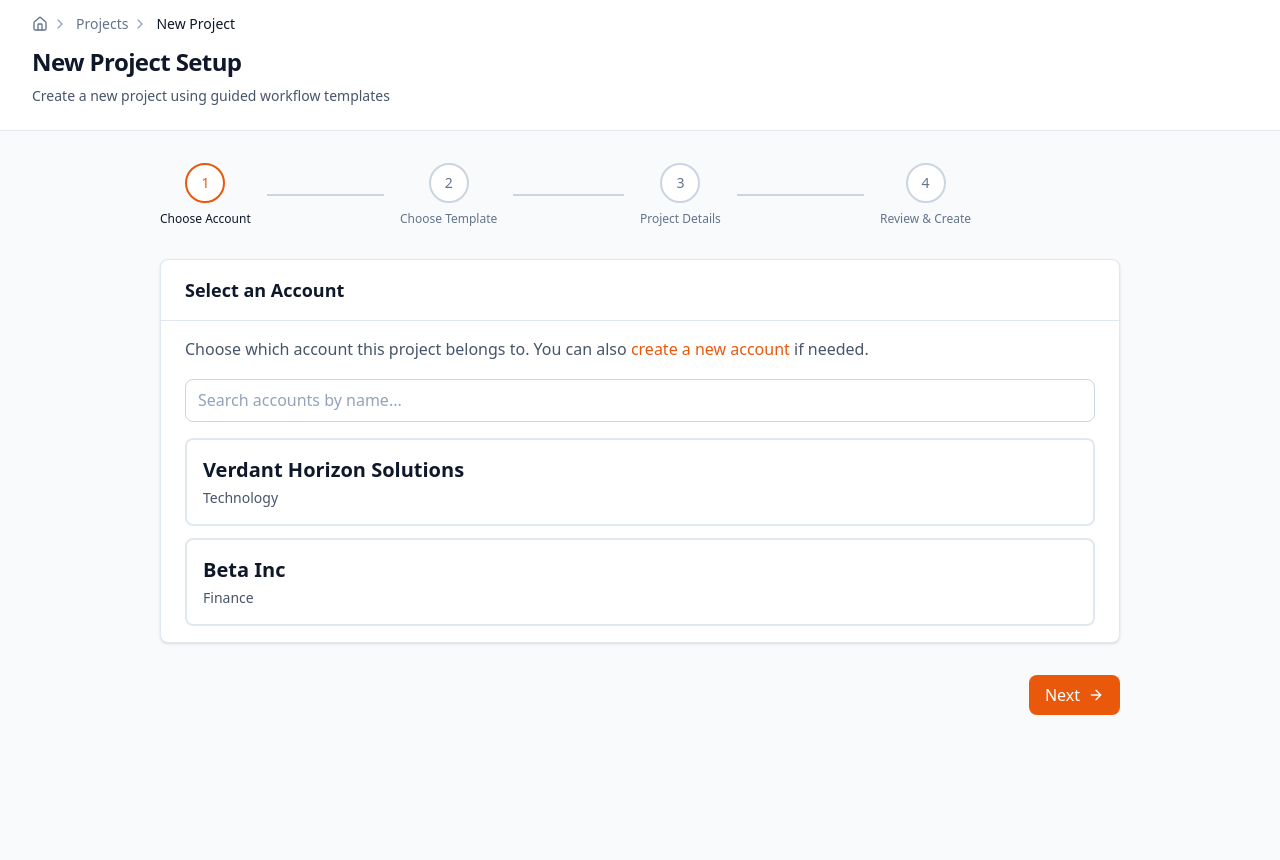
Project Setup Flow › validates project name is required
The image size is (1280, 860).
Expected: the heading "Verdant Horizon Solutions" is shown, [203,456,464,484]
Click the button "Verdant Horizon Solutions Technology": (334, 470) [185,438,1095,526]
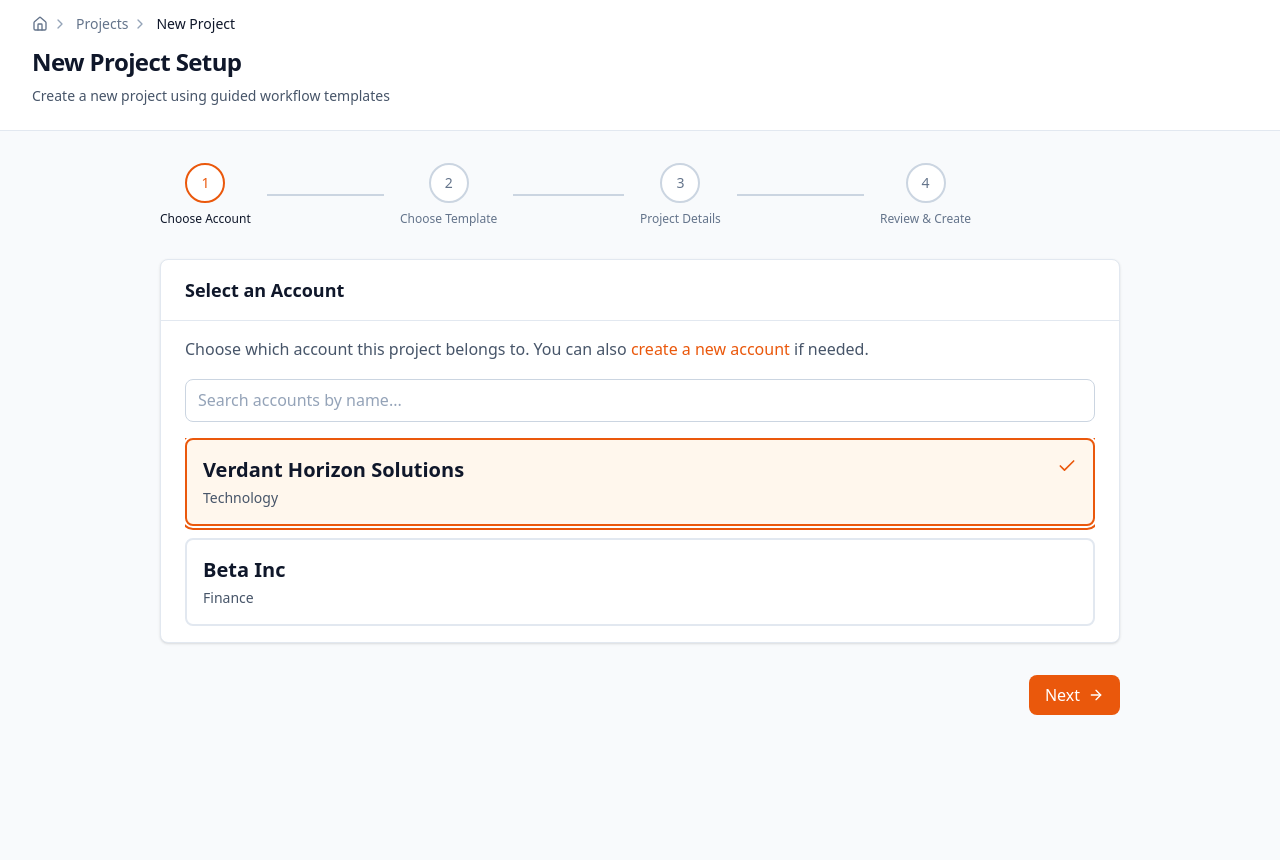
Click the button "Next": (1074, 695) [1029,675,1120,715]
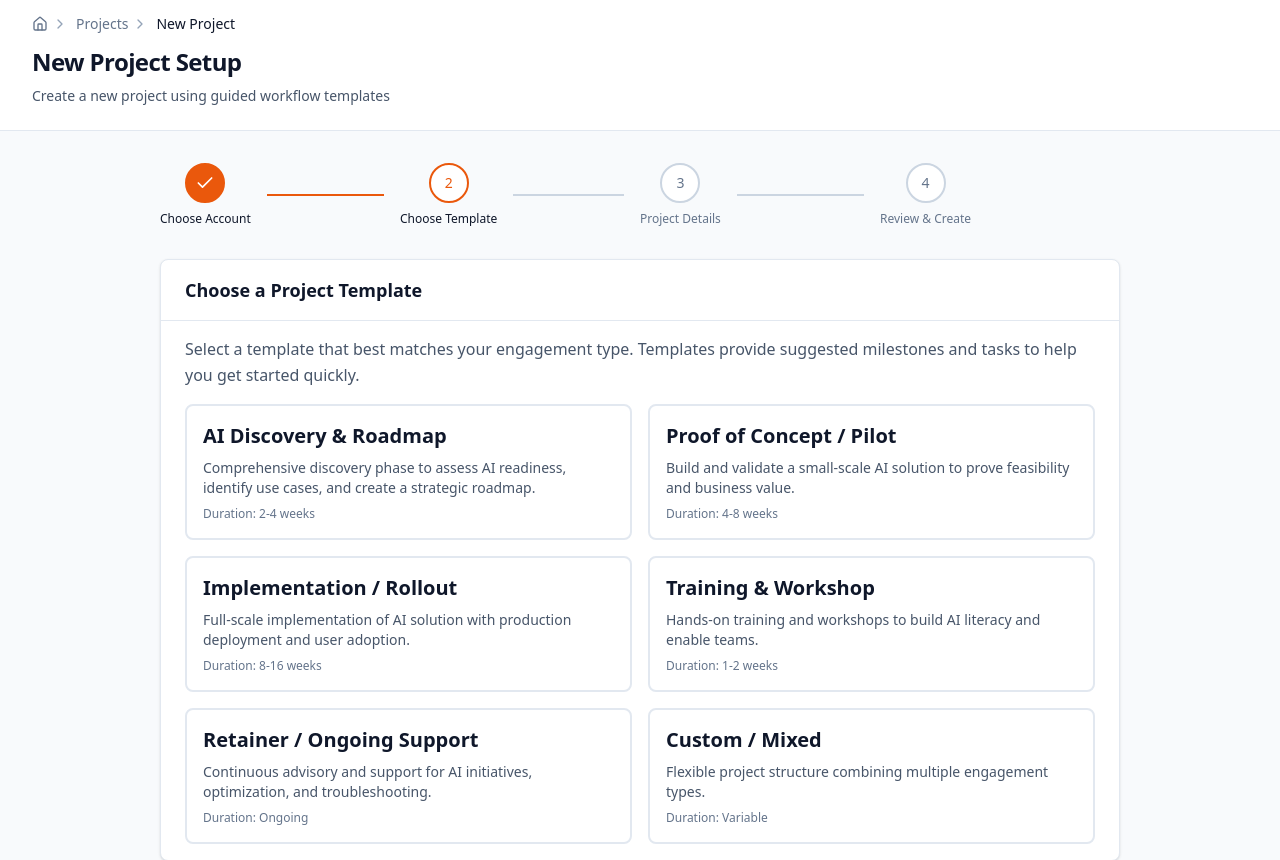
Expected: the heading "AI Discovery & Roadmap" is shown, [203,422,447,450]
Click the button "AI Discovery & Roadmap": (408, 472) [185,404,632,540]
(page scrolled)
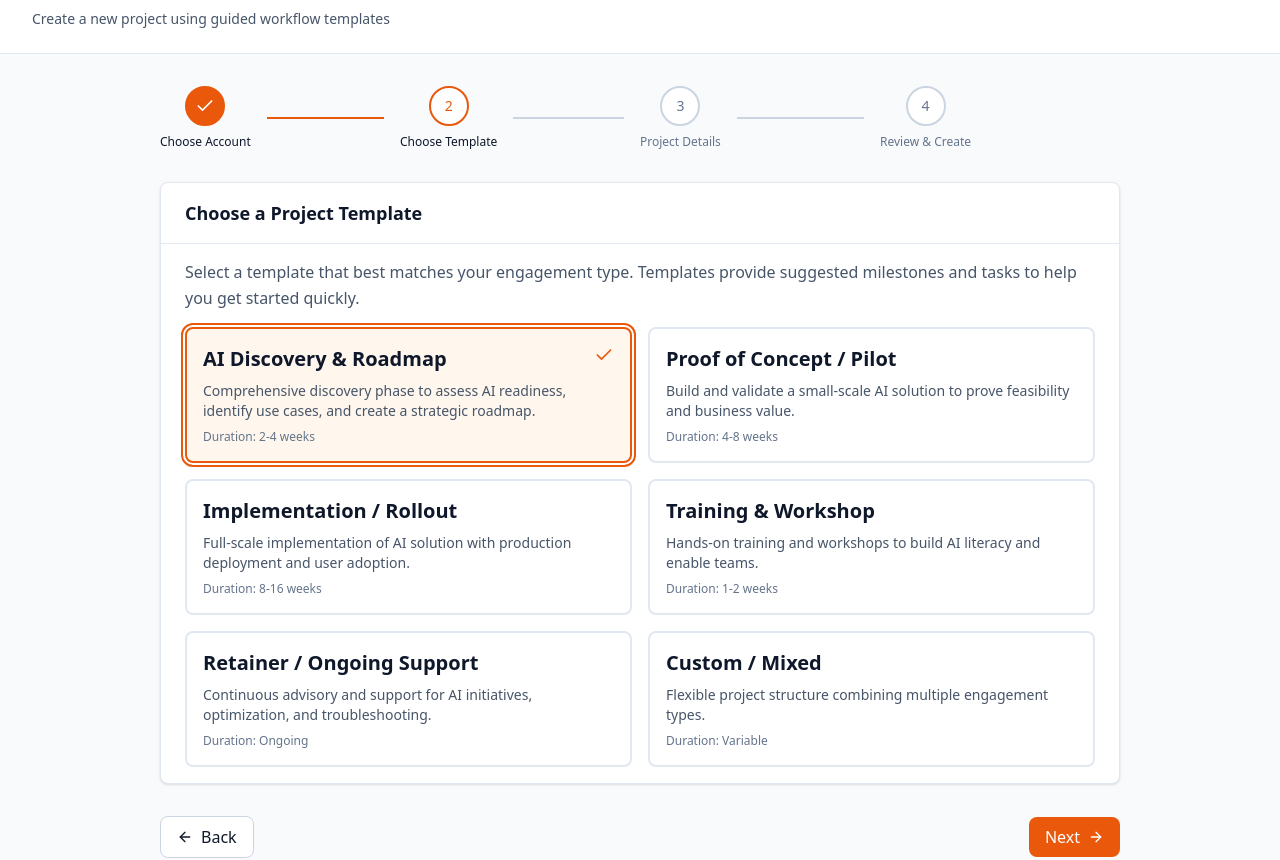
Click the button "Next": (1074, 837) [1029,817,1120,857]
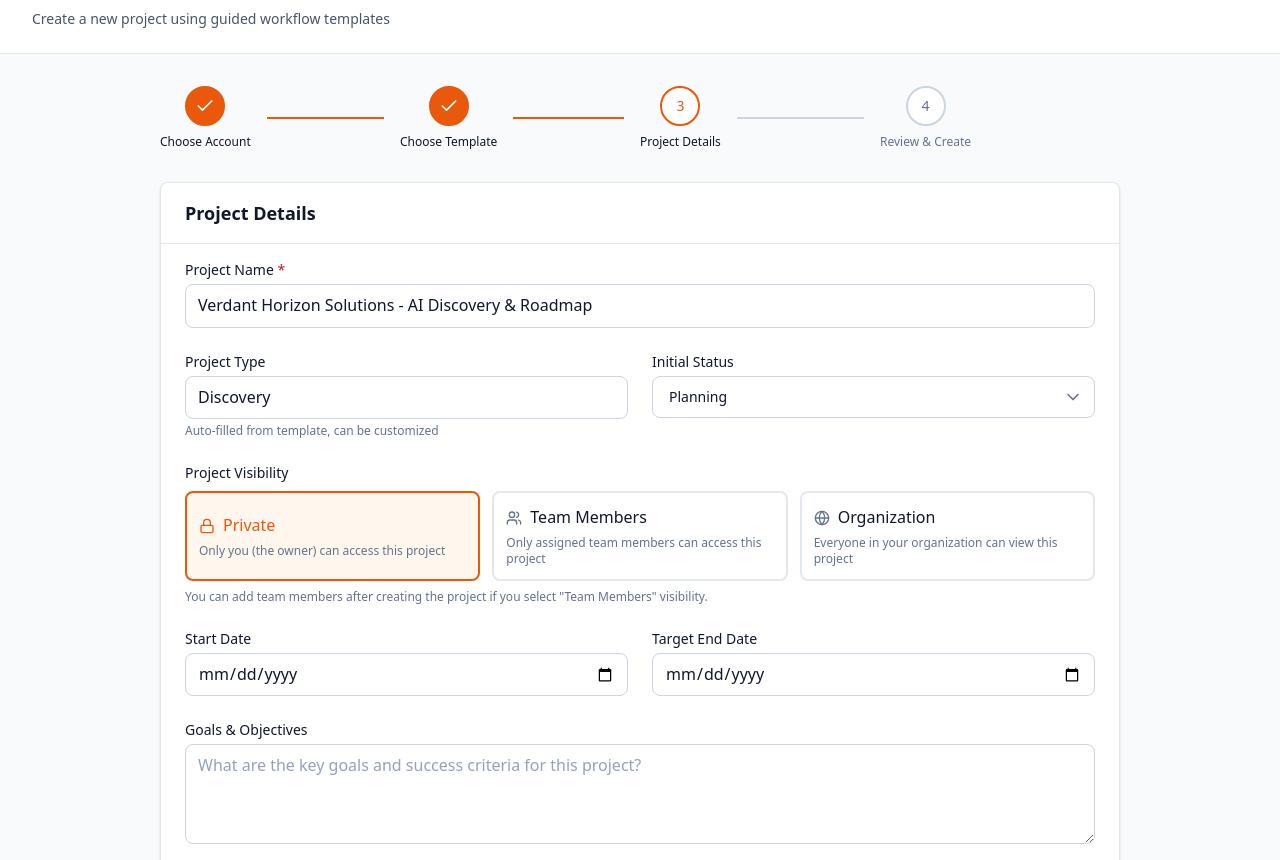
Expected: the field labelled "Project Name *" is shown
Clear the field labelled "Project Name *": (640, 306) [185,284,1095,328]
(page scrolled)
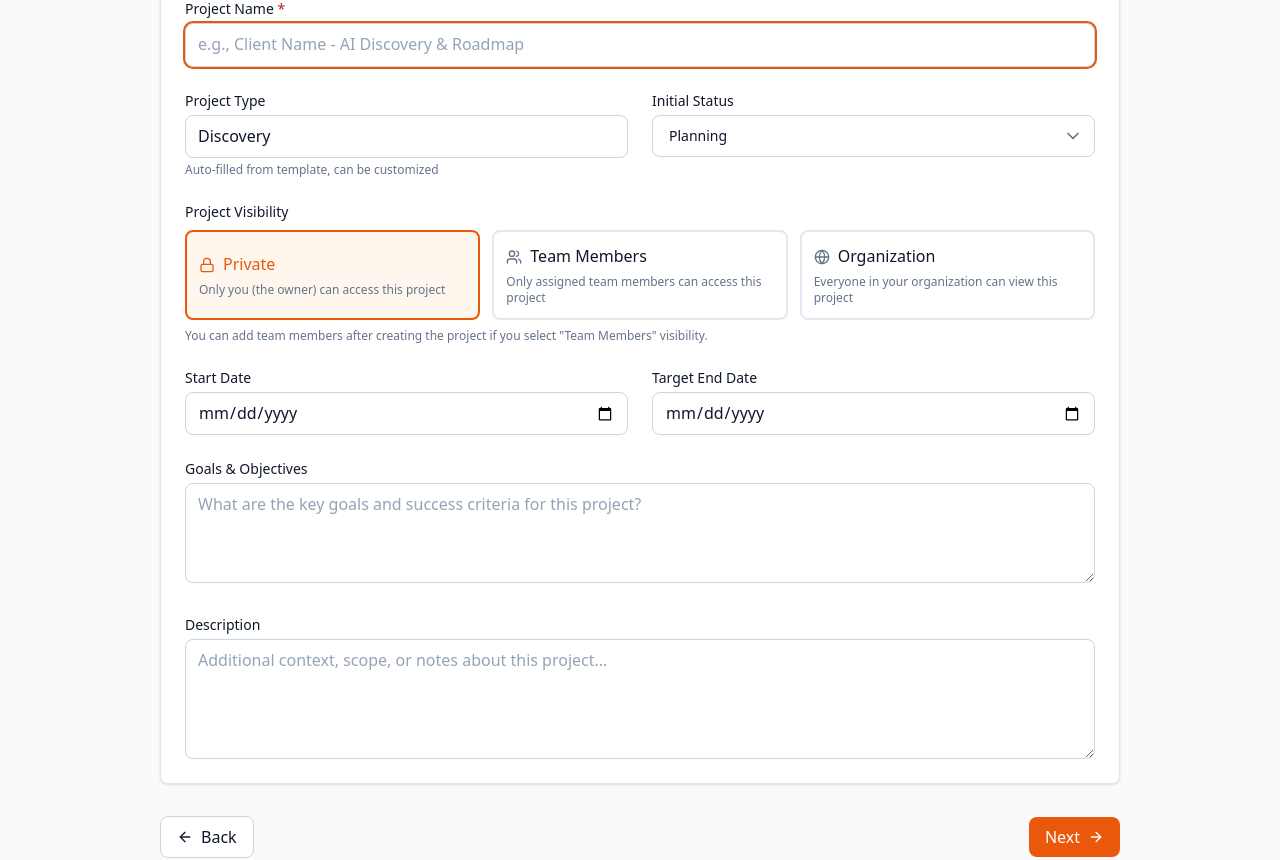
Note: Try to proceed
Click the button "Next": (1074, 837) [1029,817,1120,857]
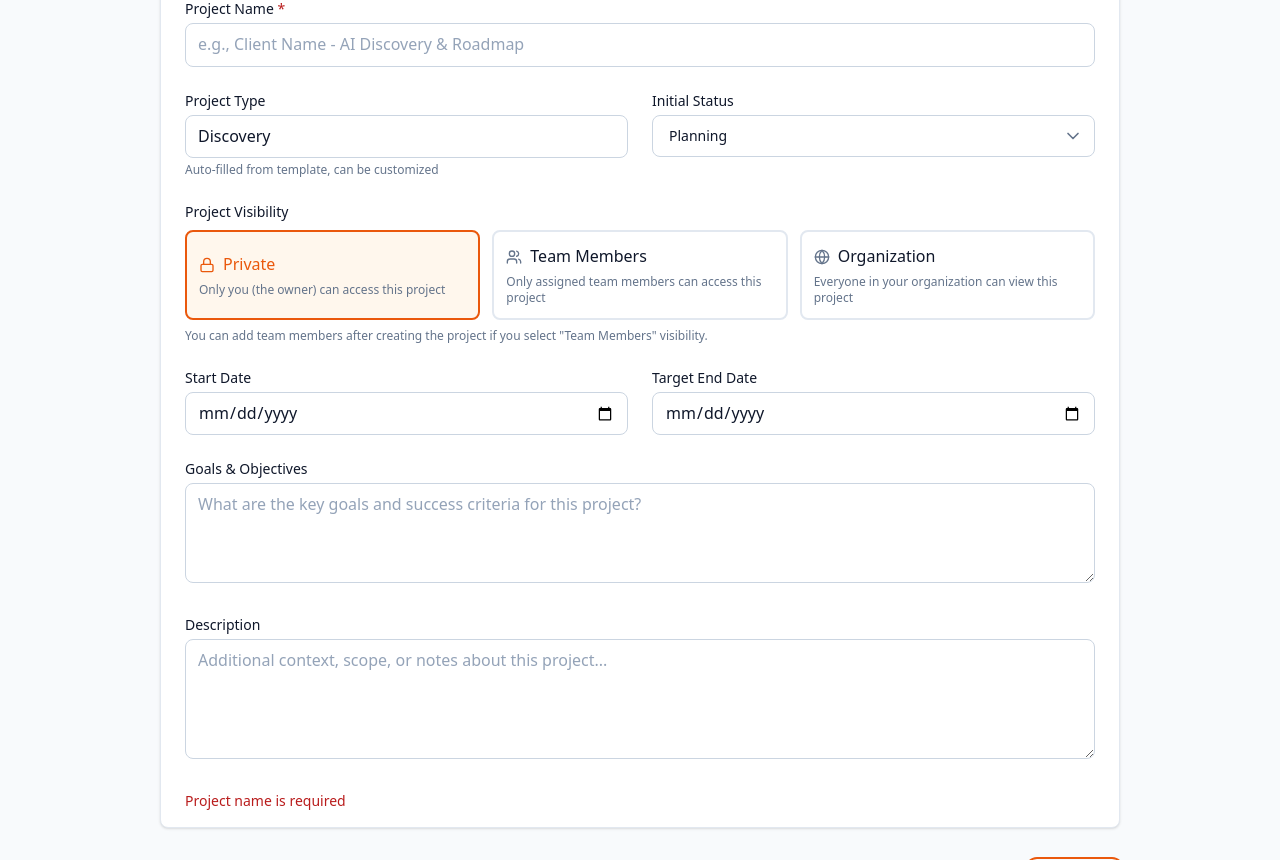
Expected: the text "Project name is required" is shown, [185,791,346,810]
